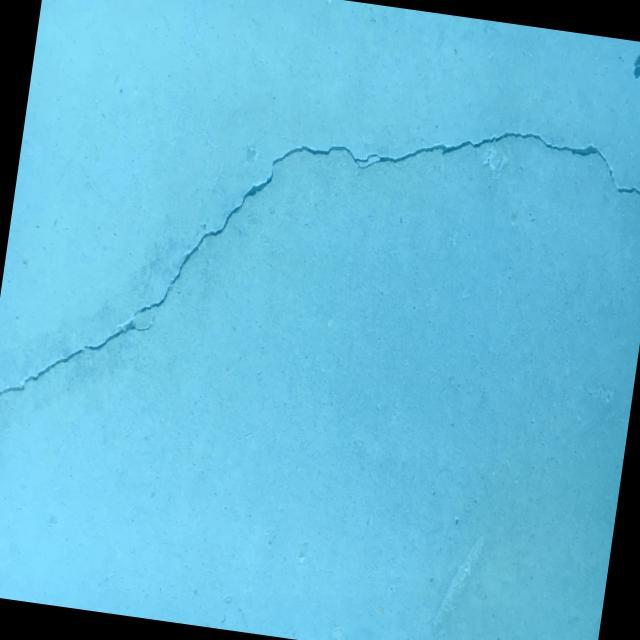crack: (134, 81, 640, 386), (0, 290, 158, 461)
